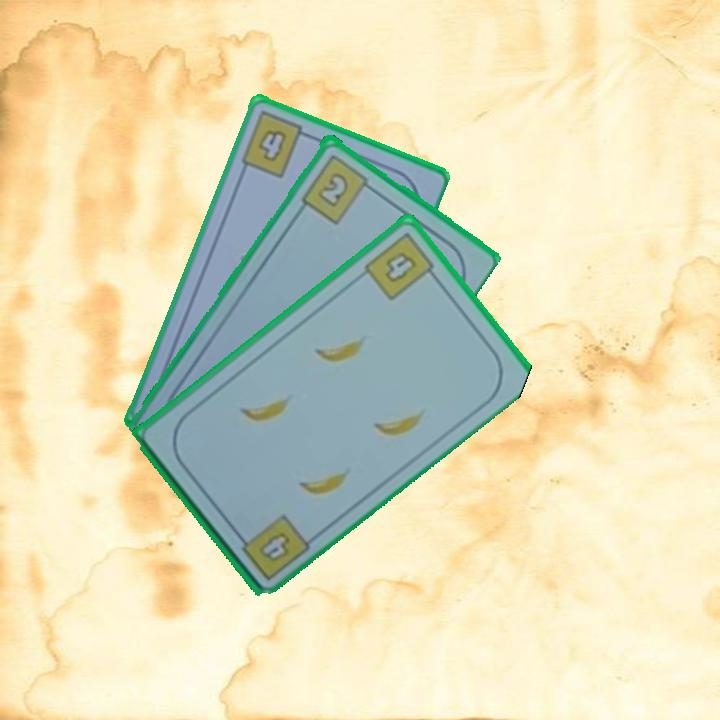2b: (297, 150, 377, 226)
4b: (360, 228, 441, 304), (231, 510, 313, 584), (236, 107, 315, 181)
